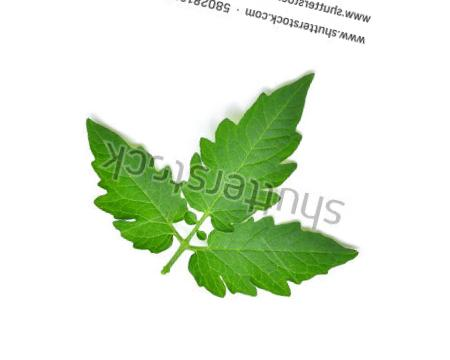Tomato leaf: (160, 36, 329, 258), (29, 98, 208, 292), (169, 182, 372, 345)
